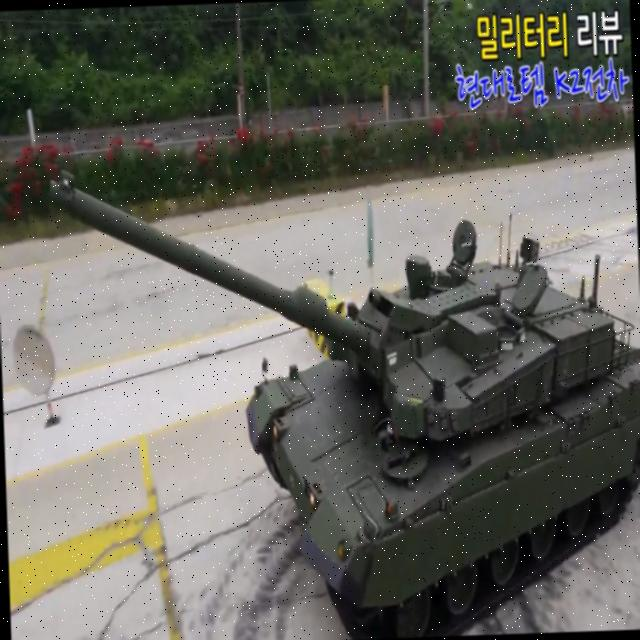korea tank: (45, 150, 640, 640)
